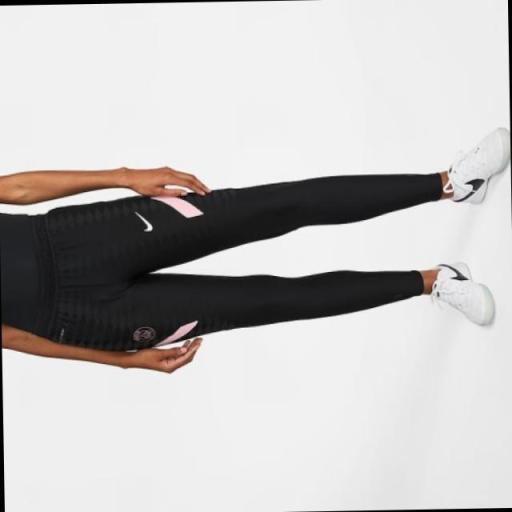Nike: (134, 207, 156, 232)
